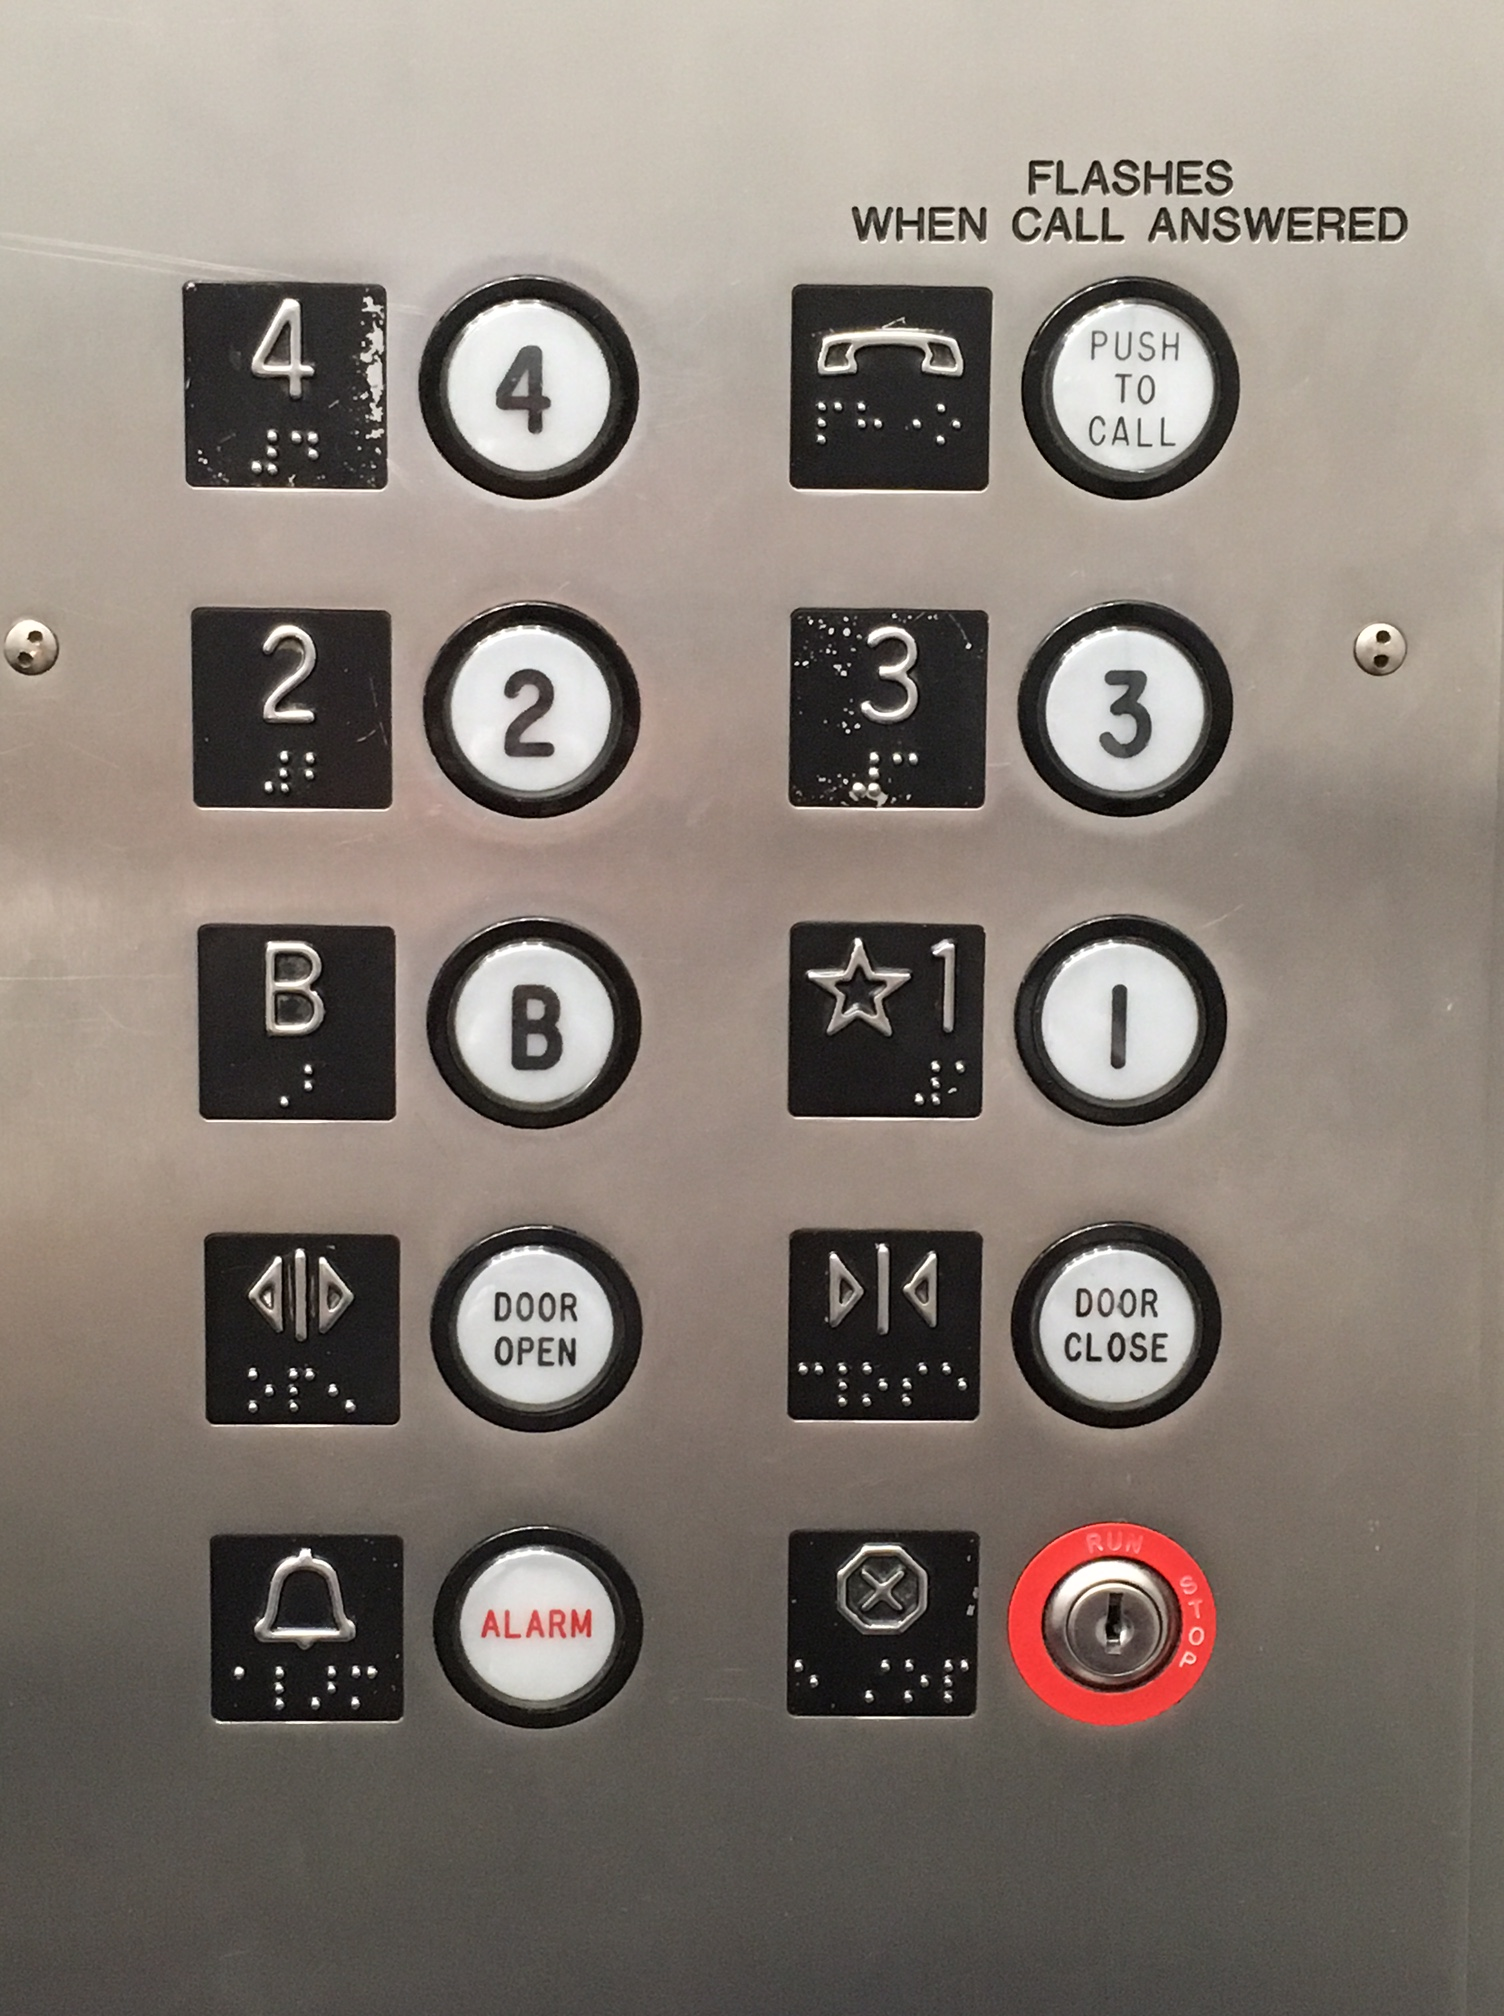button: (174, 269, 648, 510), (782, 272, 1248, 506), (180, 594, 648, 825), (777, 594, 1243, 823), (782, 908, 1239, 1133), (186, 912, 646, 1134), (776, 1213, 1231, 1435), (202, 1520, 657, 1733), (194, 1223, 652, 1435)
